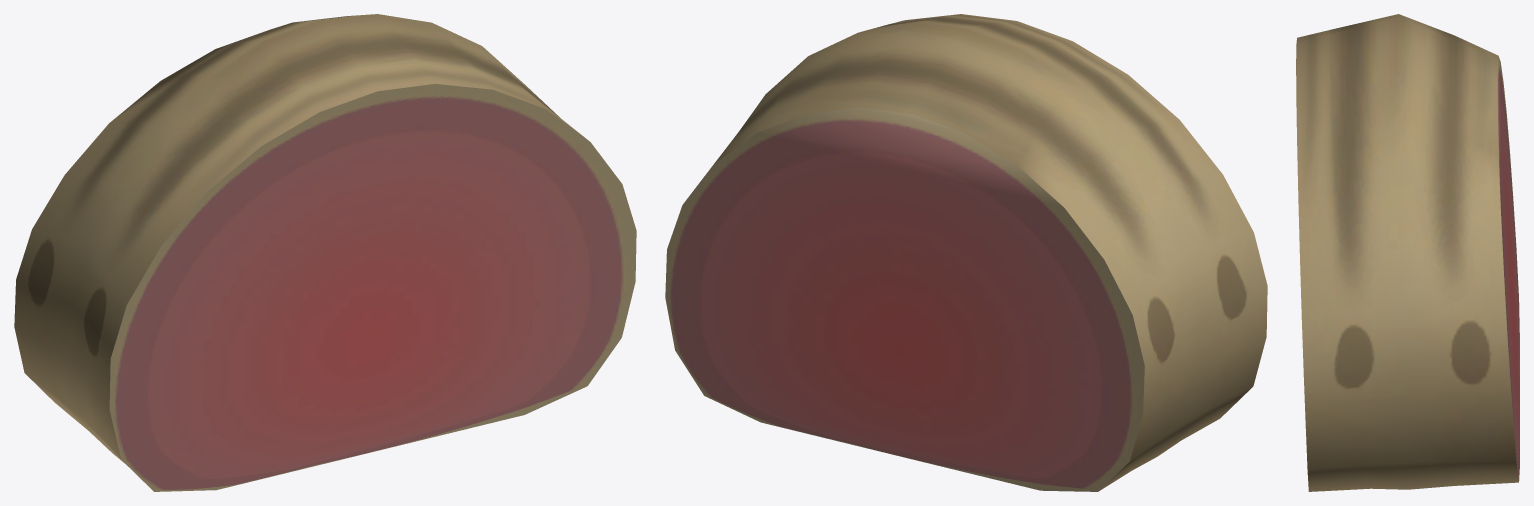
File: GrubMeat.fbx
The picture shows the model from 3 angles, left to right: view 1: azimuth 30°, elevation 25°; view 2: azimuth 150°, elevation 25°; view 3: azimuth 270°, elevation 25°; orthographic projection. The views are drawn at different scales.
Parts seen in each view (by area): view 1: Meat; view 2: Meat; view 3: Meat.
Boxes of the visible parts, box(x1,y1,x2,y2) form: Meat: box(14, 14, 636, 491); Meat: box(665, 14, 1267, 491); Meat: box(1296, 14, 1519, 491).
Bounding box in the file's own units: 0.6329 × 0.4625 × 0.2506.
